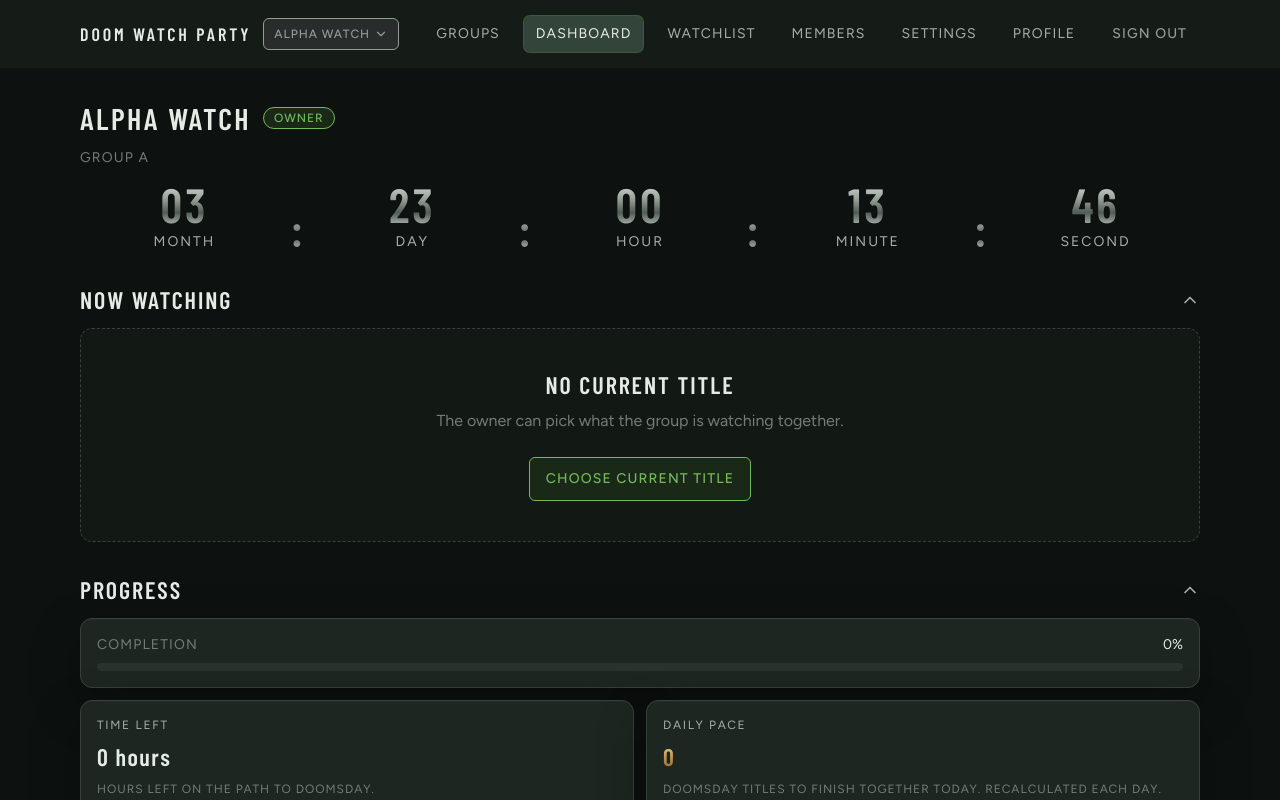
Test: groups › switches between groups without mixing query data
This screenshot has width=1280, height=800.
Expected: the heading "Alpha Watch" is shown, [80, 100, 251, 136]
Click the button with aria-label "Switch group" at (331, 34), box [263, 18, 399, 50]
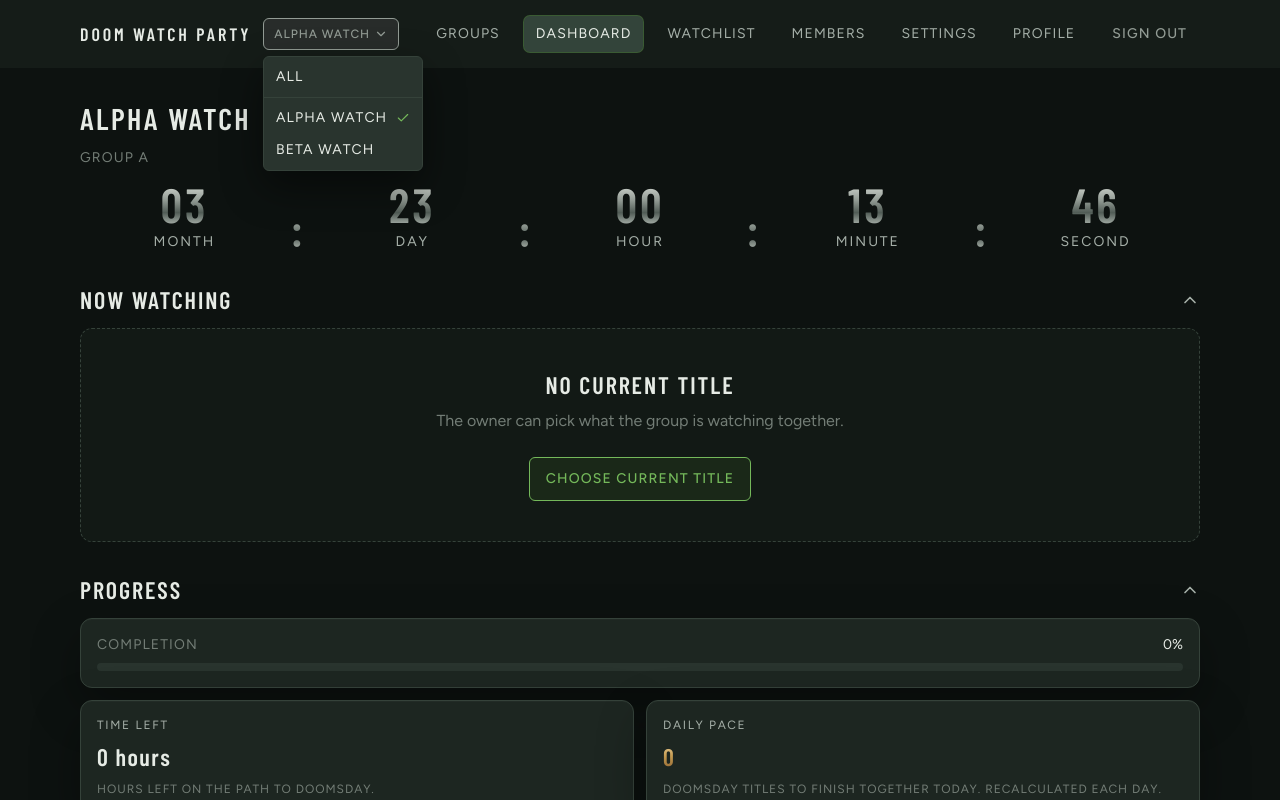
Click the menu item "Beta Watch" at (325, 150), box [276, 141, 374, 158]
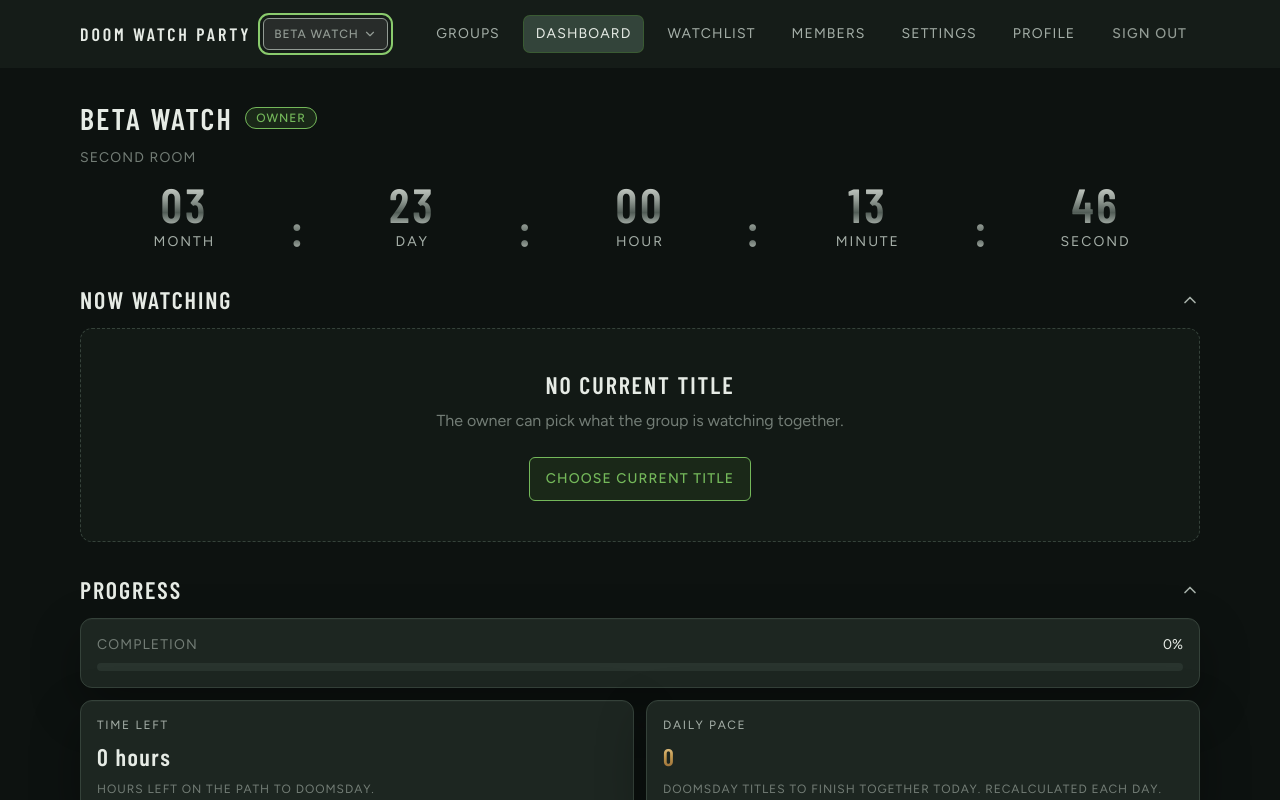
Now the heading "Beta Watch" is shown, box [80, 100, 233, 136]
Now the text "Second room" is shown, box [80, 149, 196, 166]
